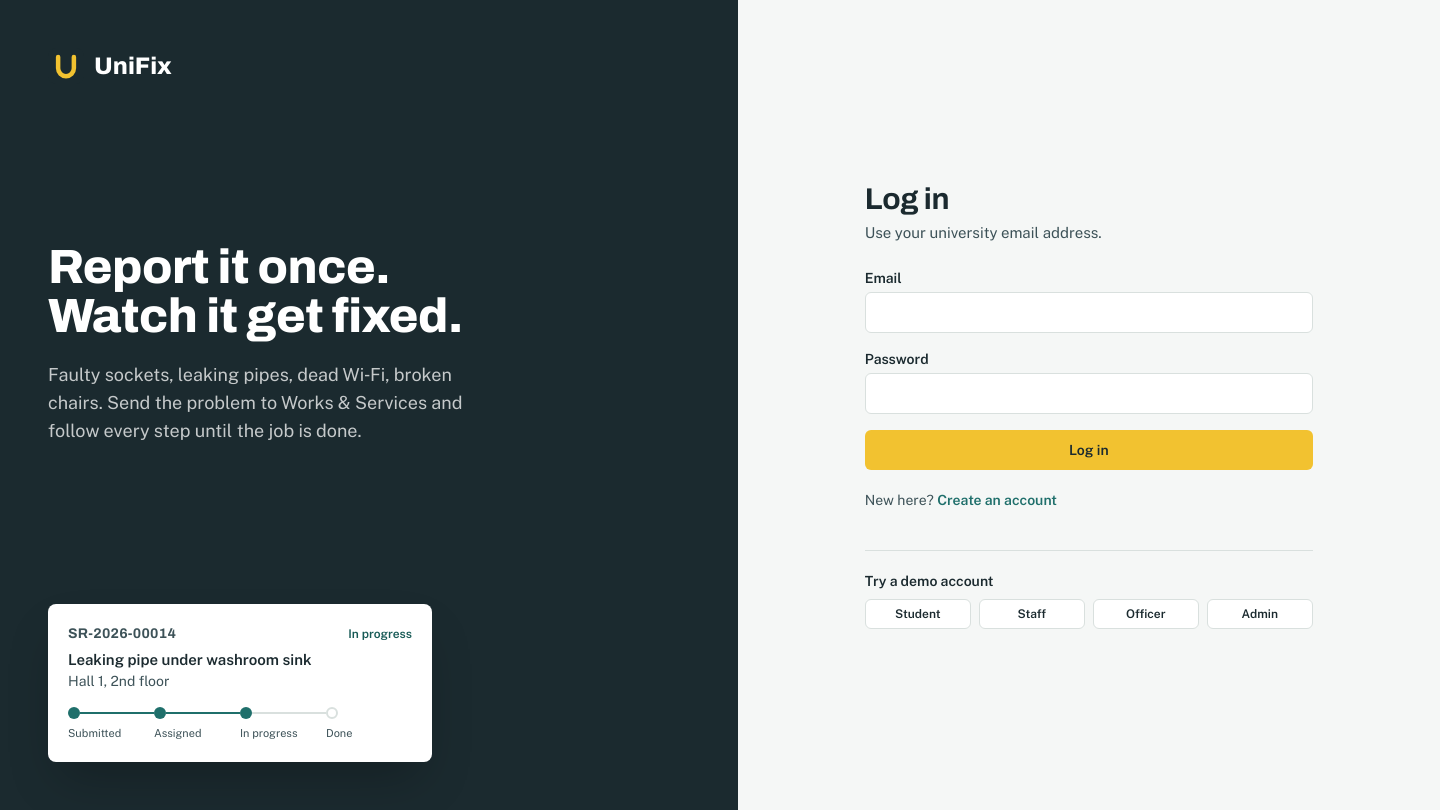
it: LoginPage › validates the form before calling the API
The image size is (1440, 810).
Click the button "Log in".
click(1089, 450)  # box [865,430,1313,470]
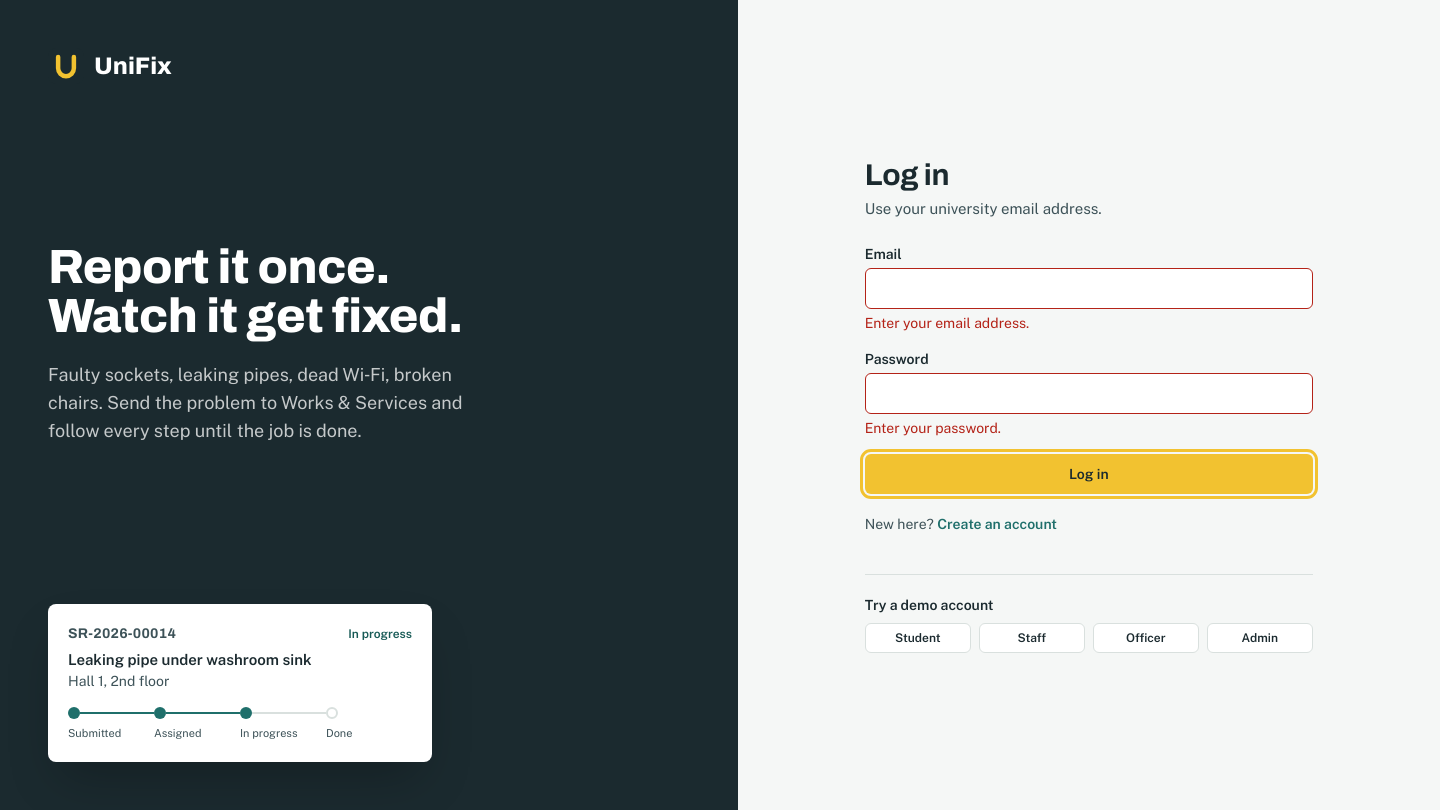
Now the text "Enter your email address." is shown, box [865,315,1029,331]
Now the text "Enter your password." is shown, box [865,420,1001,436]
